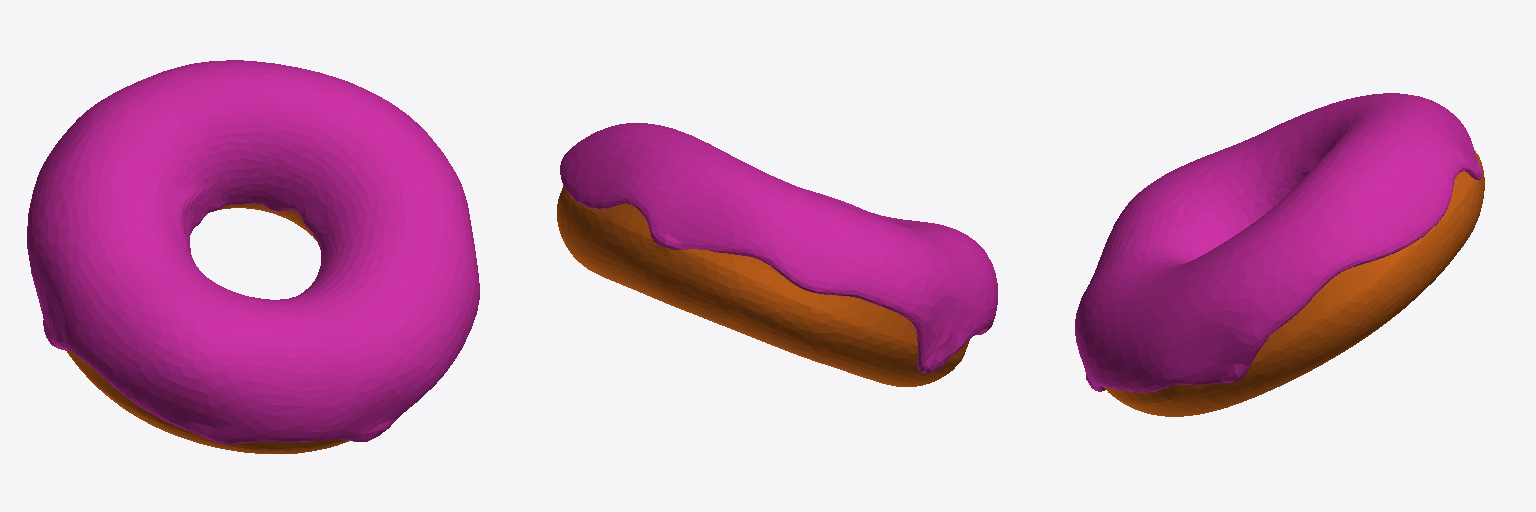
The model's file is donut_S.obj.
The picture shows the model from 3 angles: view 1: azimuth 30°, elevation 25°; view 2: azimuth 150°, elevation 25°; view 3: azimuth 270°, elevation 25°; orthographic projection.
Visible parts, largest first — view 1: icing_Torus.002, Donut_Torus.001; view 2: icing_Torus.002, Donut_Torus.001; view 3: icing_Torus.002, Donut_Torus.001.
Part boxes in pixels (bbox=[...]): icing_Torus.002: bbox=[27, 60, 479, 444]; Donut_Torus.001: bbox=[66, 203, 348, 453]; icing_Torus.002: bbox=[560, 123, 997, 372]; Donut_Torus.001: bbox=[557, 186, 969, 386]; icing_Torus.002: bbox=[1075, 93, 1482, 392]; Donut_Torus.001: bbox=[1104, 150, 1484, 416].
Bounding box in the file's own units: 1.92 × 1.31 × 1.73.